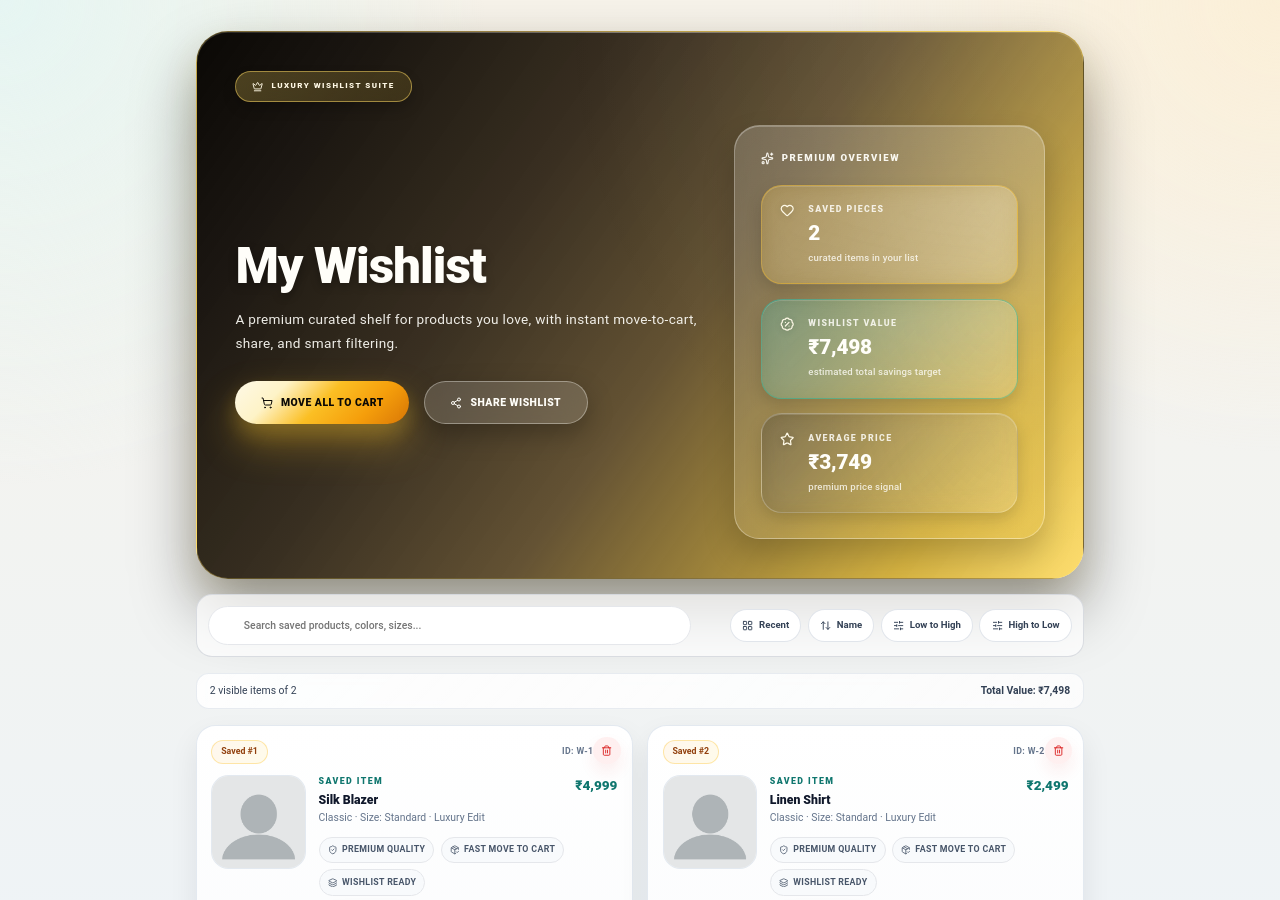
Test: a partial failure restores only the failed row and warns once
Expected: the heading "Silk Blazer" is shown, [319,793,383,808]
Click the button "Move All to Cart".
click(322, 403)  # box [235,381,410,424]
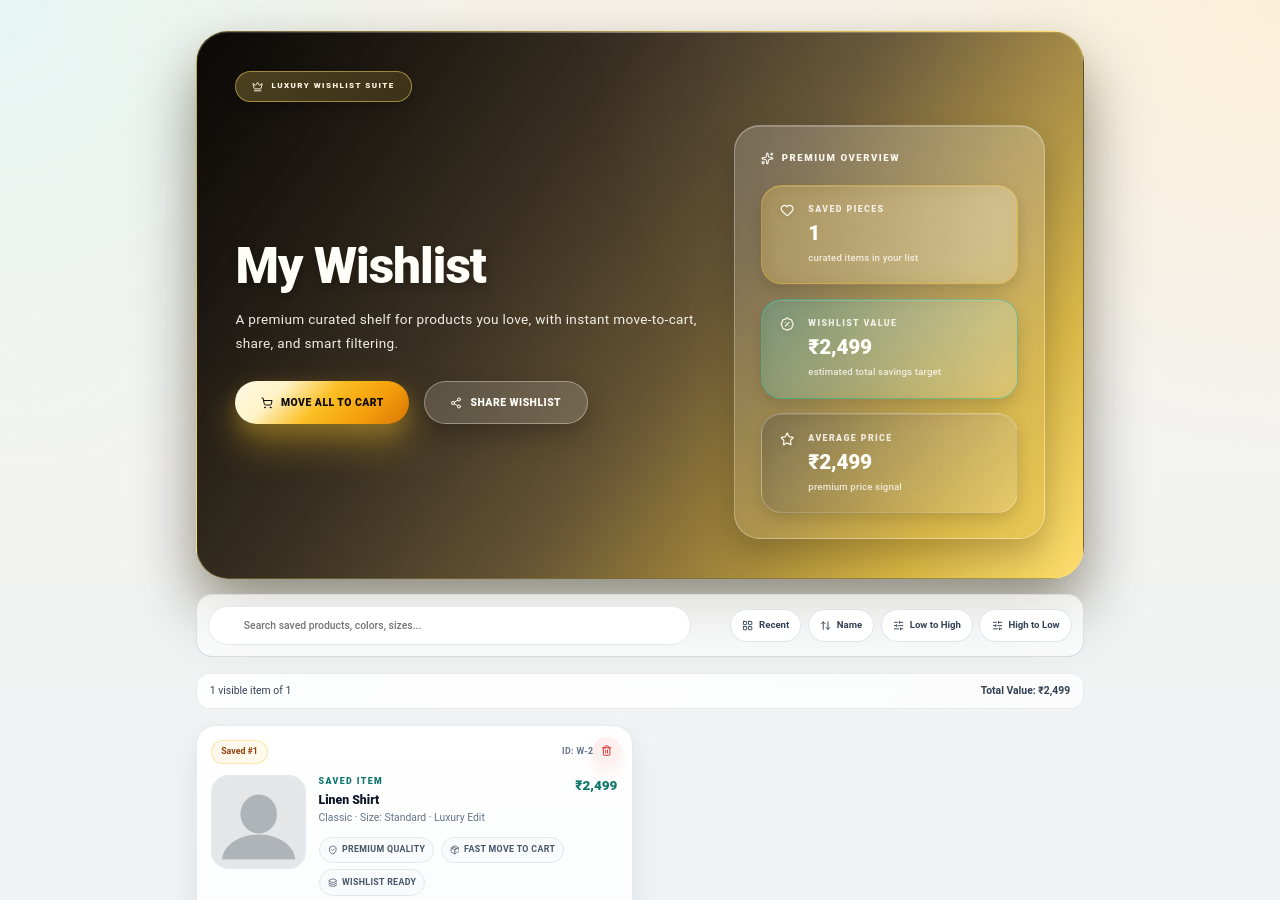
Expected: the heading "Linen Shirt" is shown, [319,793,383,808]
Now the heading "Silk Blazer" is gone
